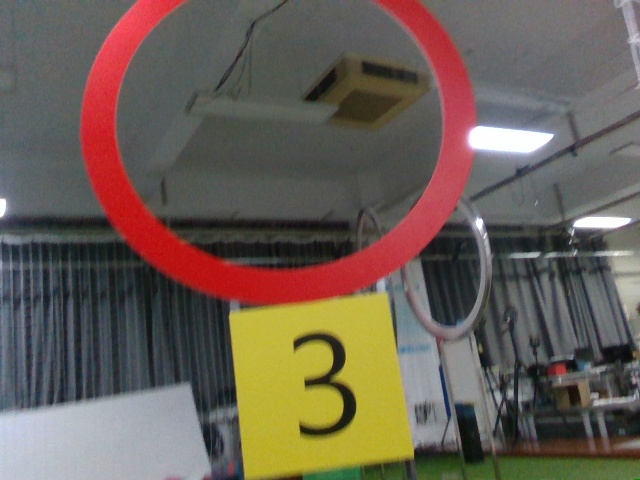target: (241, 308, 392, 457)
